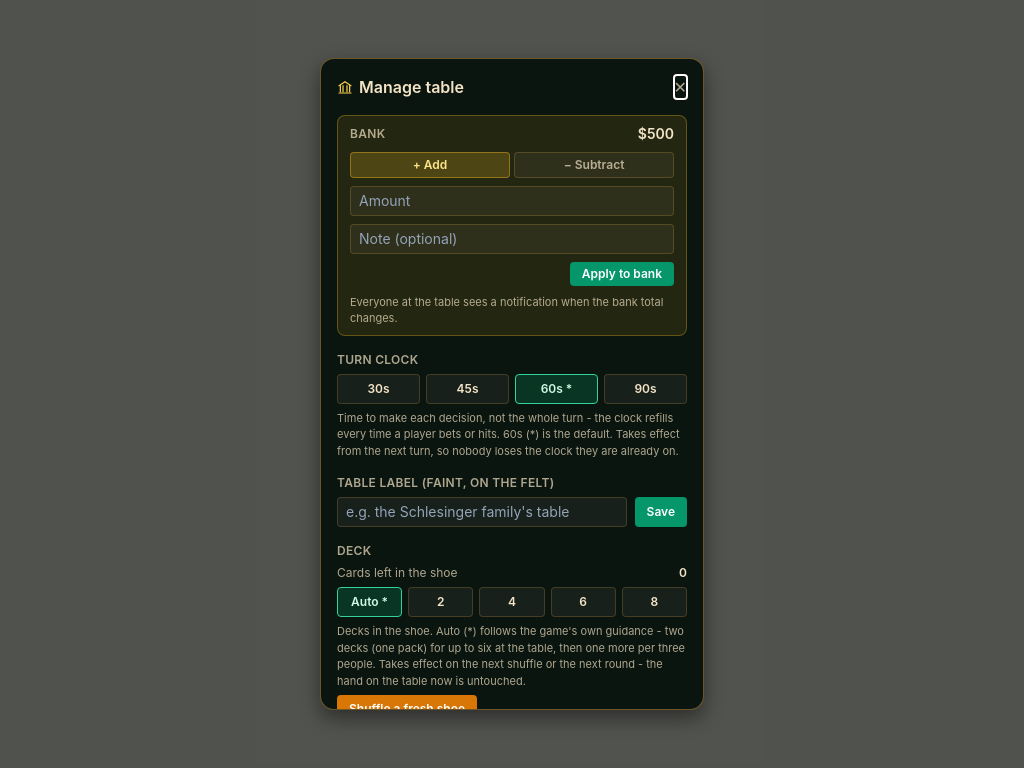
Test case: the bank top-up amount › says why an empty top-up went nowhere instead of silently dropping it
This screenshot has width=1024, height=768.
Click the button "Apply to bank".
click(622, 274)  # box 570,262 -> 674,286
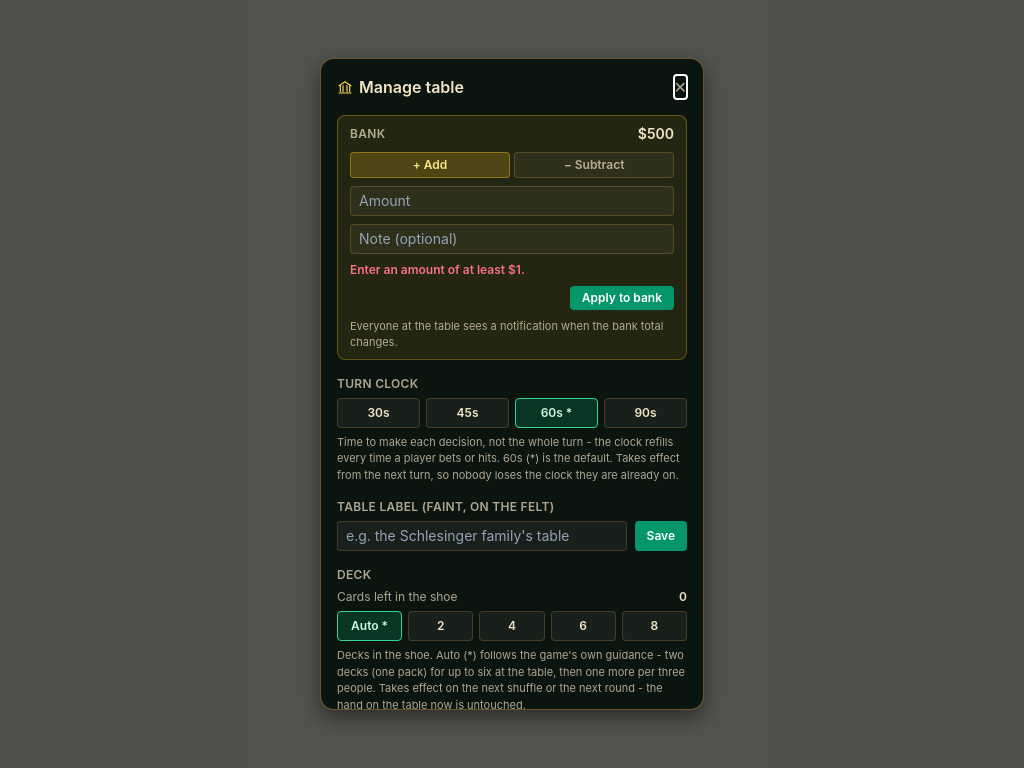
expect the text "Enter an amount of at least $1." is shown: met, box 350,262 -> 525,277
